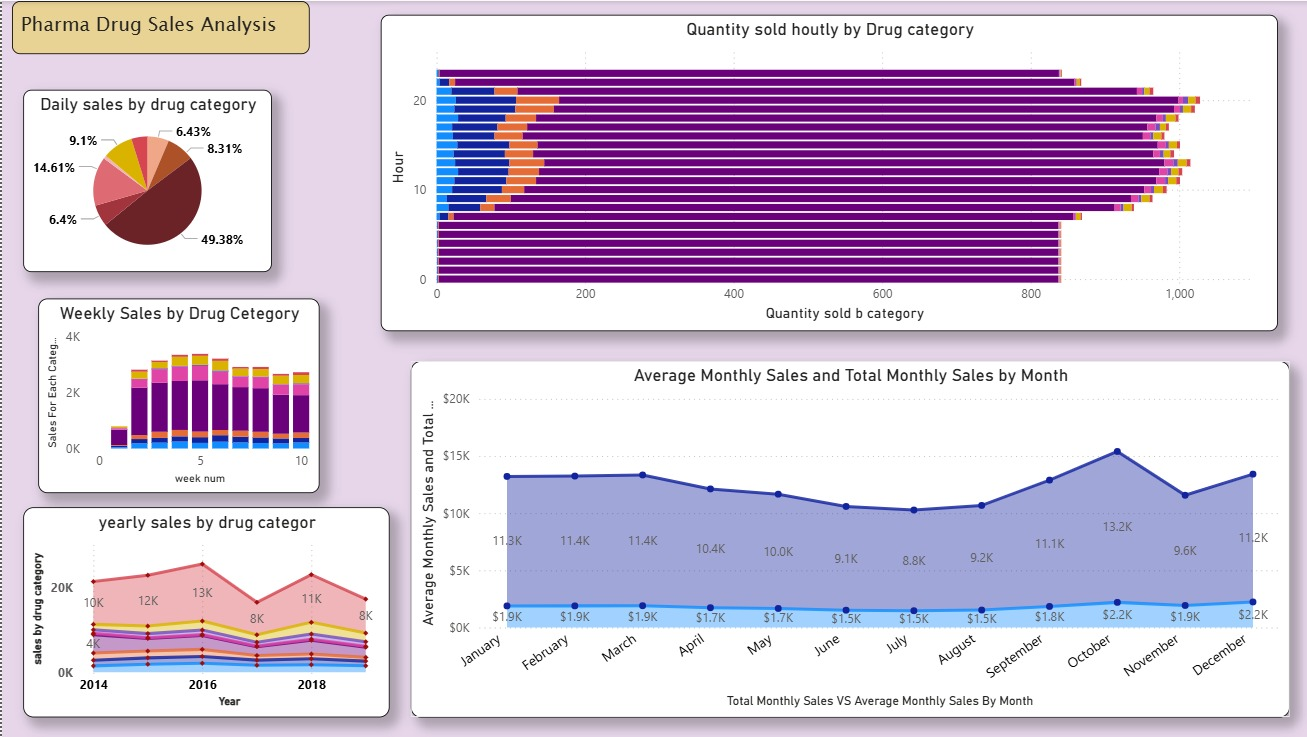

Layout of this report page (visuals, bound fields, positions):
{"tool":"powerbi","page":{"name":"Page 1","canvas":[1280,720],"ordinal":0},"visuals":[{"type":"textbox","box":[9.6,0,290.9,52.1],"z":0},{"type":"columnChart","title":"Weekly Sales by Drug Cetegory","fields":{"Category":["Sales Weekly.week num"],"Y":["Sum(Sales Weekly.M01AB)","Sum(Sales Weekly.M01AE)","Sum(Sales Weekly.N02BA)","Sum(Sales Weekly.N02BE)","Sum(Sales Weekly.N05B)","Sum(Sales Weekly.N05C)","Sum(Sales Weekly.R03)","Sum(Sales Weekly.R06)"]},"box":[35.5,291,275.1,190.8],"z":1000},{"type":"stackedAreaChart","fields":{"Category":["Sales Monthly.Date.Variation.Date Hierarchy.Month"],"Y":["Sales Monthly.Average Monthly Sales","Sales Monthly.Total Monthly Sales"]},"box":[399.9,352.2,859.7,348.5],"z":2000},{"type":"barChart","title":"Quantity sold houtly by Drug category","fields":{"Category":["Sales Hourly.Hour"],"Y":["Count(Sales Hourly.N02BA)","Count(Sales Hourly.N02BE)","Count(Sales Hourly.M01AE)","CountNonNull(Sales Hourly.M01AB)","Count(Sales Hourly.N05B)","Count(Sales Hourly.N05C)","Count(Sales Hourly.R03)","Count(Sales Hourly.R06)"]},"box":[370.5,13.5,878,309.4],"z":3000},{"type":"pieChart","title":"Daily sales by drug category","fields":{"Y":["Sum(Sales Daily.M01AE)","Sum(Sales Daily.M01AB)","Sum(Sales Daily.N02BE)","Sum(Sales Daily.N02BA)","Sum(Sales Daily.N05B)","Sum(Sales Daily.N05C)","Sum(Sales Daily.R03)","Sum(Sales Daily.R06)"]},"box":[20.8,86.8,243.3,178.5],"z":4000},{"type":"stackedAreaChart","title":"yearly sales by drug categor","fields":{"Category":["Sales Monthly.Date.Variation.Date Hierarchy.Year"],"Y":["Sum(Sales Monthly.M01AB)","Sum(Sales Monthly.M01AE)","Sum(Sales Monthly.N02BA)","Sum(Sales Monthly.N05B)","Sum(Sales Monthly.N05C)","Sum(Sales Monthly.R06)","Sum(Sales Monthly.R03)","Sum(Sales Monthly.N02BE)"]},"box":[20.8,495.2,358.3,205.4],"z":5000}]}

Visuals, with their boxes in screenshot pixels (x1, y1, x2, y2), scaled from the page's 1280x720 canvas onto the 1307x737 screenshot:
textbox: 10 0 307 53
"Weekly Sales by Drug Cetegory" columnChart: 36 298 317 493
stackedAreaChart - Sales Monthly.Date.Variation.Date Hierarchy.Month x Sales Monthly.Average Monthly Sales: 408 361 1286 717
"Quantity sold houtly by Drug category" barChart: 378 14 1275 331
"Daily sales by drug category" pieChart: 21 89 270 272
"yearly sales by drug categor" stackedAreaChart: 21 507 387 717
